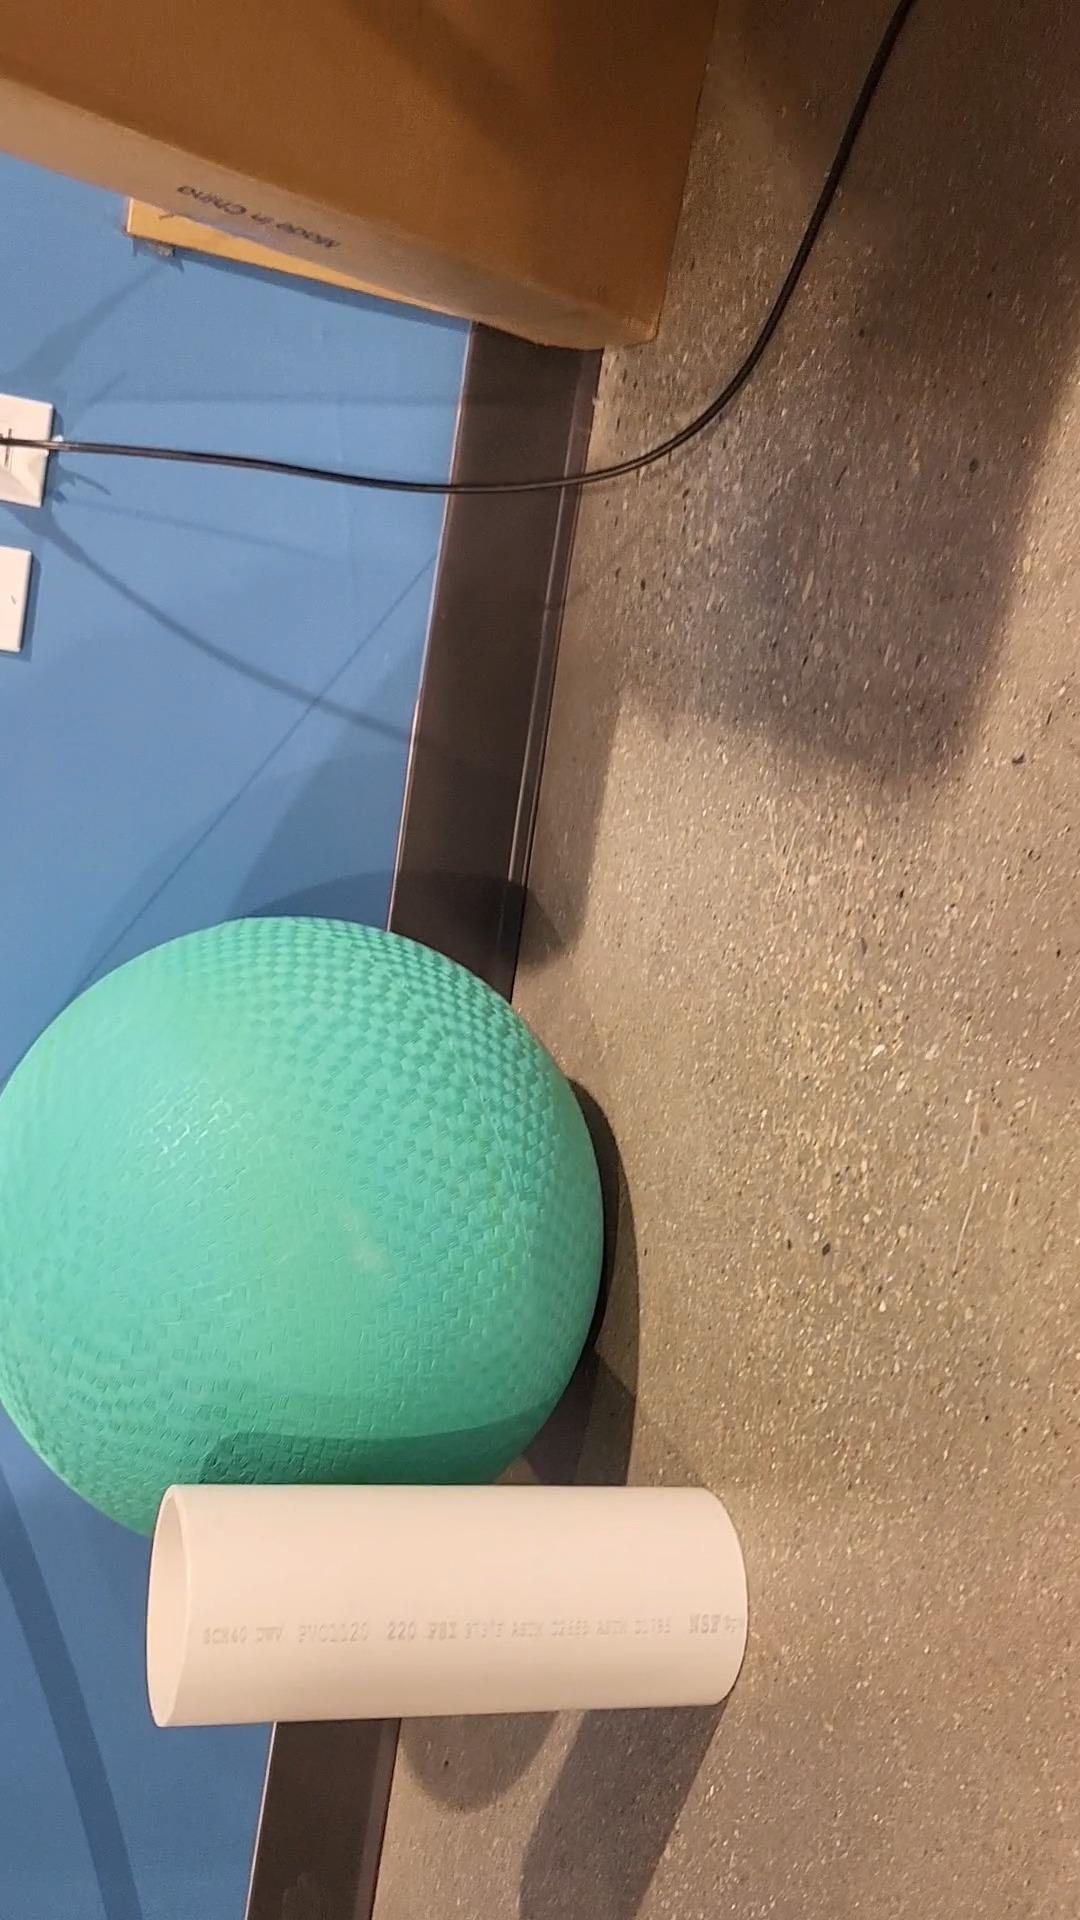algae: (0, 910, 605, 1538)
coral: (145, 1477, 750, 1727)
